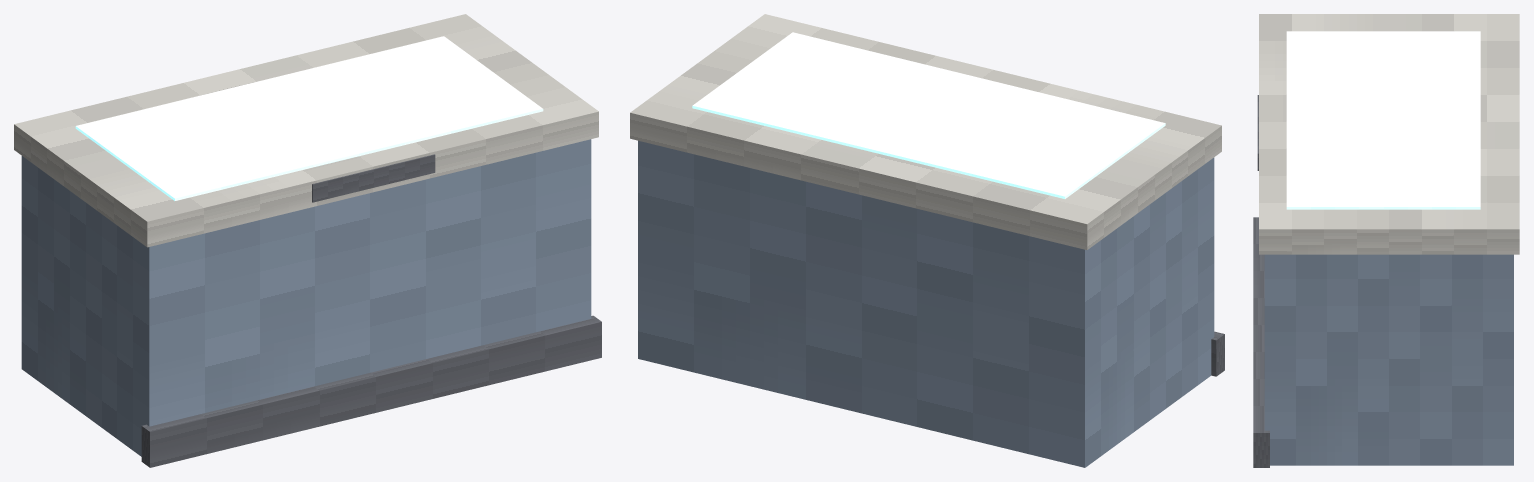
Rendered from pixel-modern-supermarket-freezer-chest-a5eb2cbd.glb.
The picture shows the model from 3 angles, left to right: view 1: azimuth 30°, elevation 25°; view 2: azimuth 150°, elevation 25°; view 3: azimuth 270°, elevation 25°; orthographic projection. The views are drawn at different scales.
Parts seen in each view (by area): view 1: freezer-chest, lid/cyan, lid/white, lid/charcoal; view 2: freezer-chest, lid/white, lid/cyan; view 3: freezer-chest, lid/cyan, lid/white.
Boxes of the visible parts, x1,y1,x2,y2 form: freezer-chest: (21,139,601,467); lid/cyan: (75,36,543,200); lid/white: (14,14,598,247); lid/charcoal: (312,154,435,202); freezer-chest: (638,140,1224,467); lid/white: (630,14,1221,249); lid/cyan: (692,32,1165,198); freezer-chest: (1253,217,1513,467); lid/cyan: (1286,31,1480,209); lid/white: (1259,14,1519,254).
Bounding box in the file's own units: 1.84 × 0.96 × 0.9601.
Materials: 6 (6 with a texture image).
